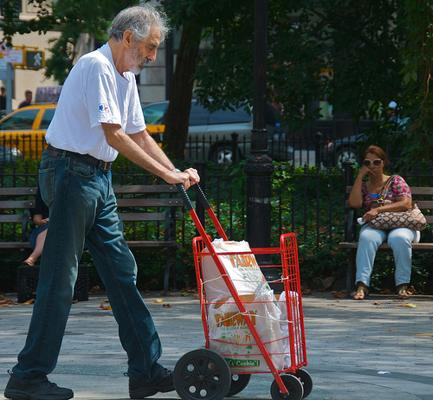person: (5, 7, 205, 400)
